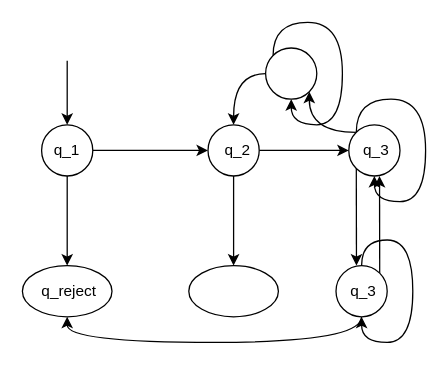
This 448x365 diagram has some shape labels left out. Here are the shapes that lost their labels. From the top down, the centre of each, then its label:
[290,73]: q_5
[233,290]: q_accept
